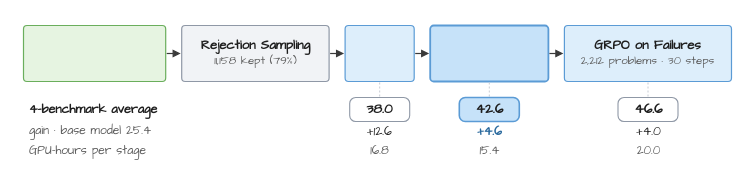
Image size: 754x196. Some labels were removed from this diagram. Here are the shapes that lost their labels. From the top down, the centre of each, then its label:
At (x=94, y=53): "Teacher Solutions 14,116 problems".
At (x=379, y=53): "SFT 1 epoch".
At (x=489, y=53): "Scaffold-OPD 40 steps".
